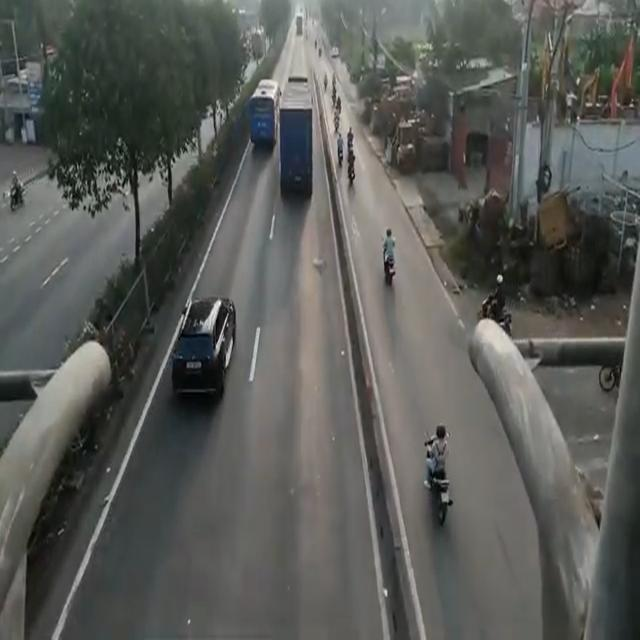bus: (247, 74, 281, 154)
car: (178, 293, 229, 405)
motor: (423, 429, 449, 524), (382, 232, 397, 291)
truck: (282, 74, 314, 205)
